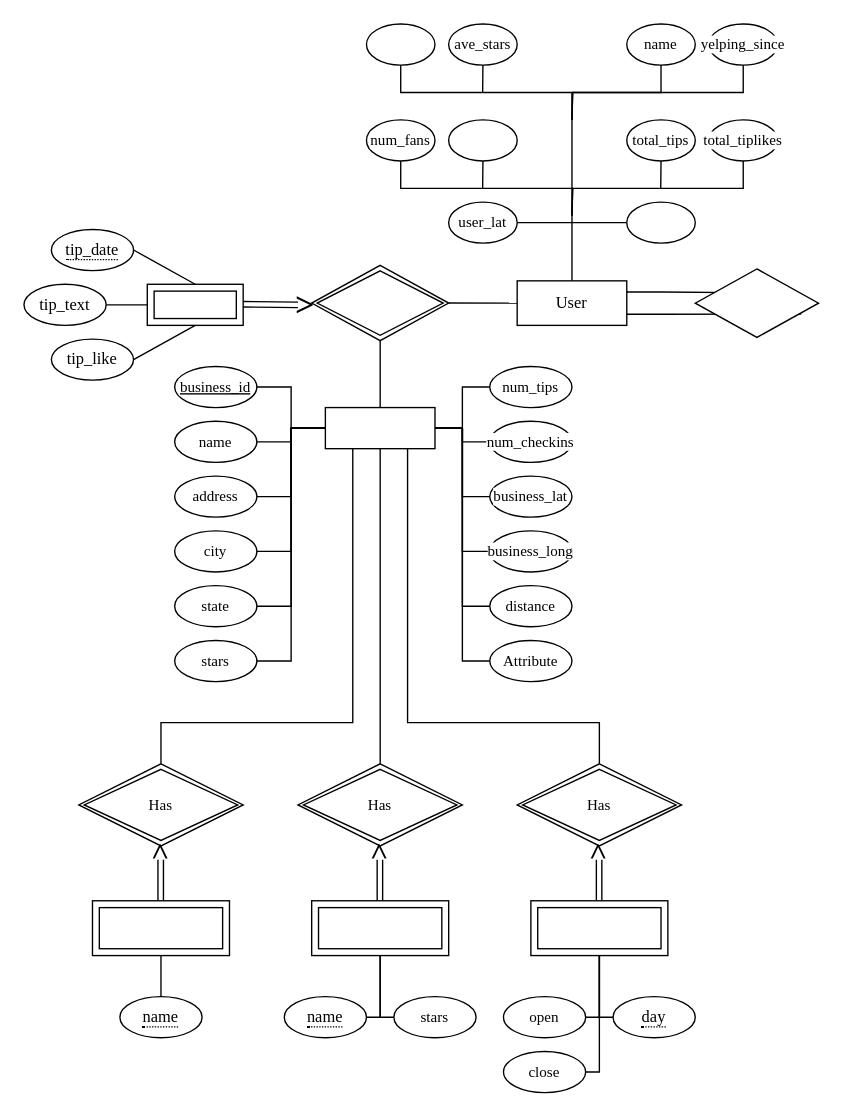
Some shapes in this 843 by 1117 pixel diagram are drawn without their labels. The centre of each missing label's shape, as x and y in pixels:
Attributes: point 379,927
Belongs to: point 379,302
Business: point 379,427
Categories: point 160,927
Friend: point 756,302
num_votes: point 482,140
Times: point 599,927
Tip: point 194,304
user_id: point 400,44
user_long: point 660,222
